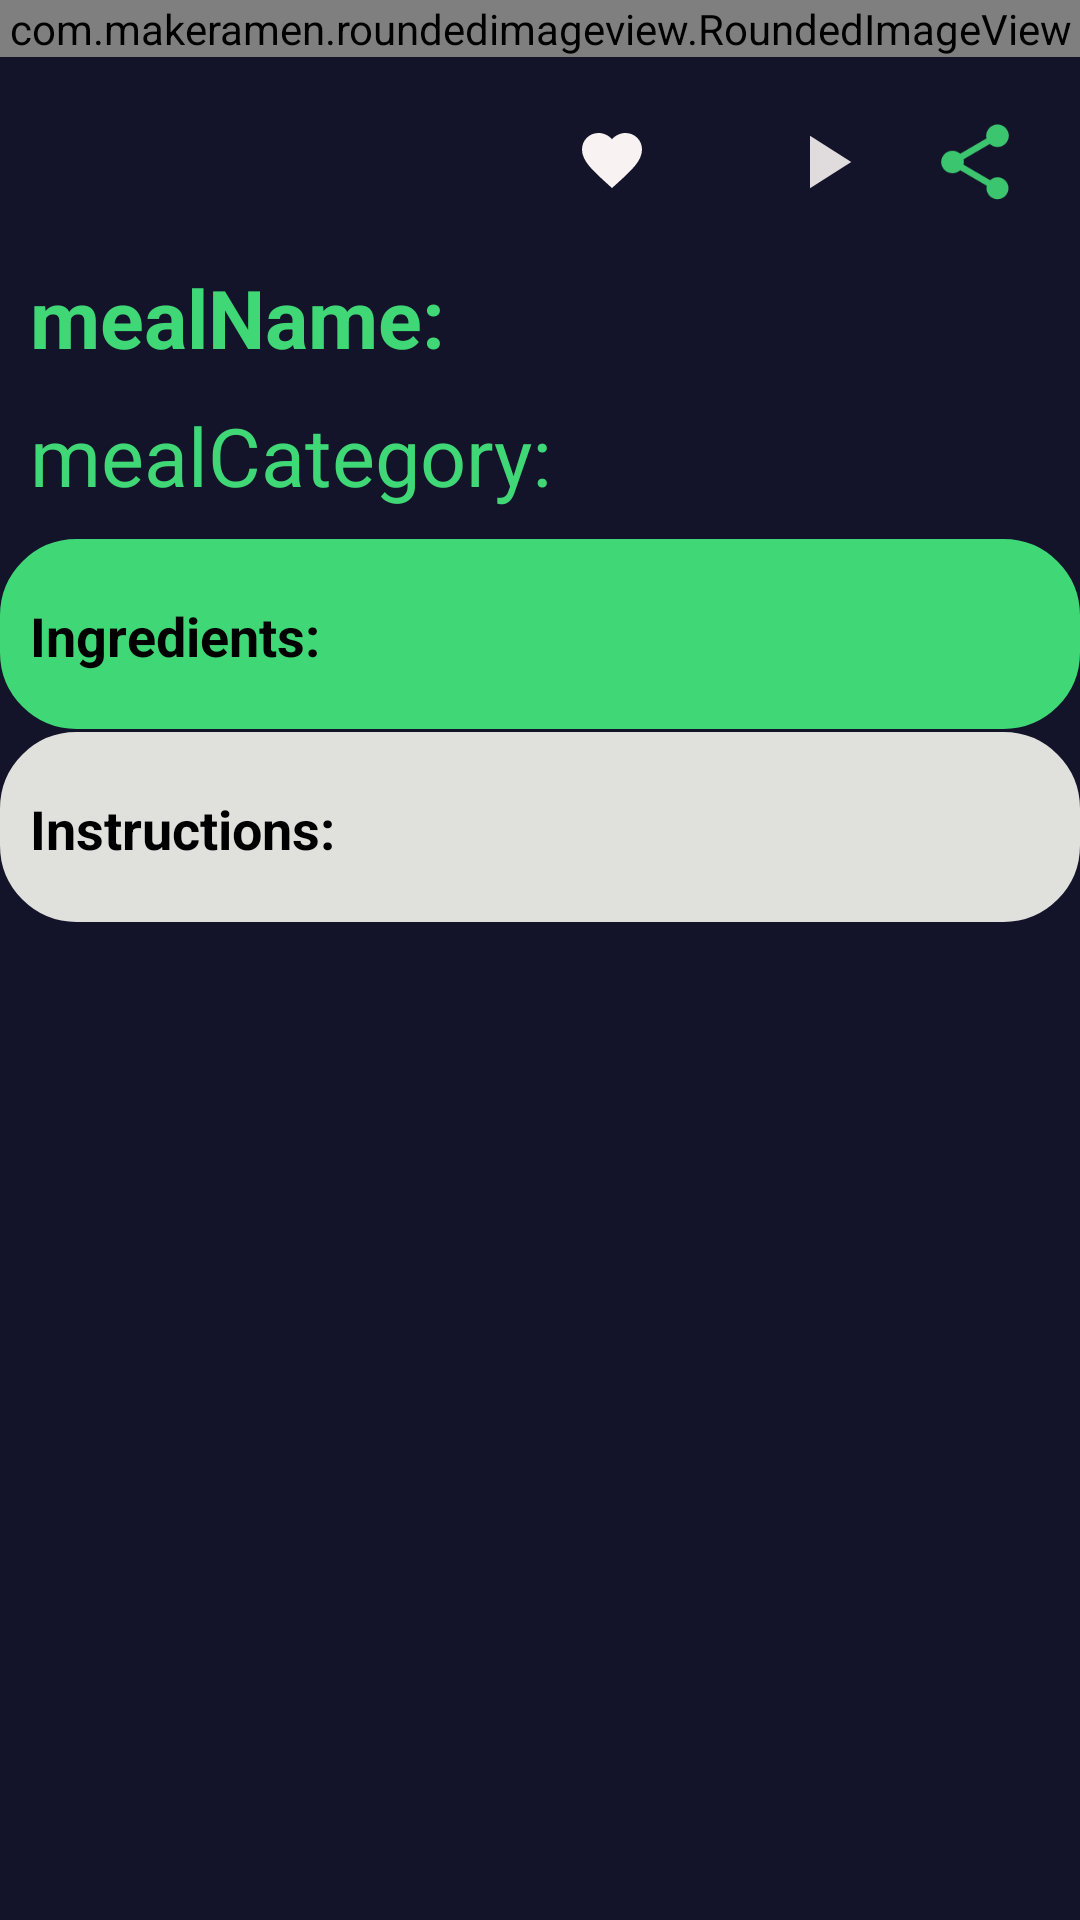

Locate icon controls on the screen. Image size 1080w x 1920h, boxes as (x1, y1, x2, y2).
play: (810, 136, 851, 188)
share: (941, 124, 1009, 200)
